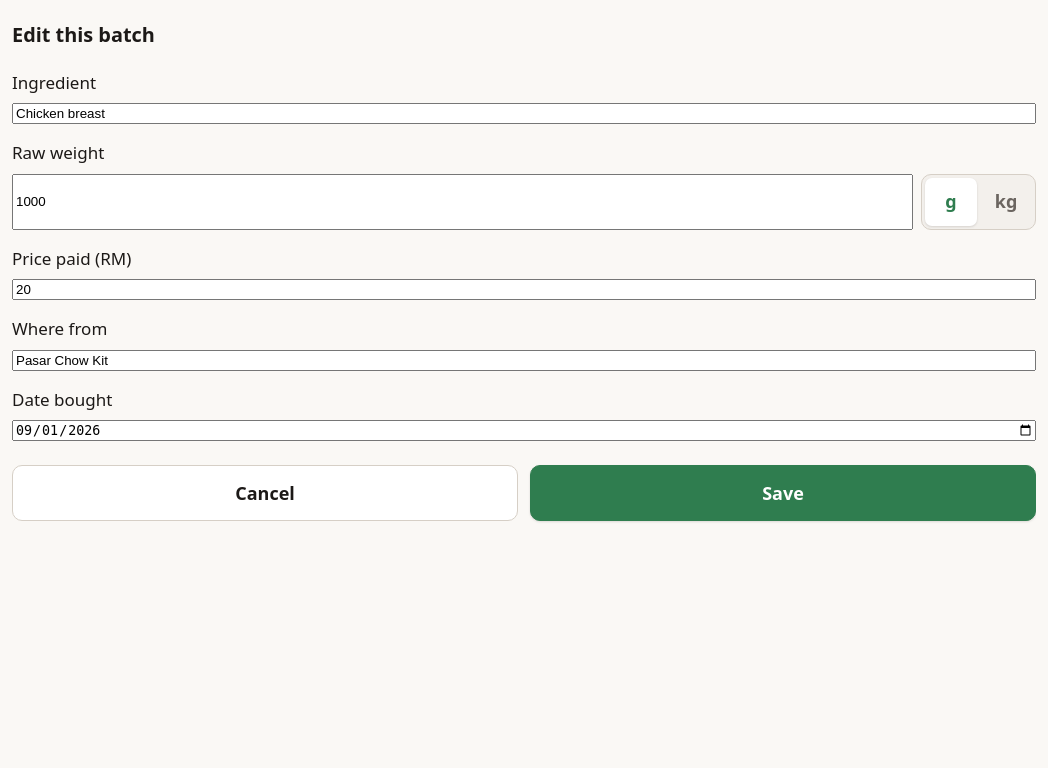
it: AddBatchForm editing › blocks shrinking the weight below what has already been cooked
The width and height of the screenshot is (1048, 768).
Replace the text in the number field labelled "Raw weight" with "300" at x=462, y=202, box [12, 174, 913, 230]
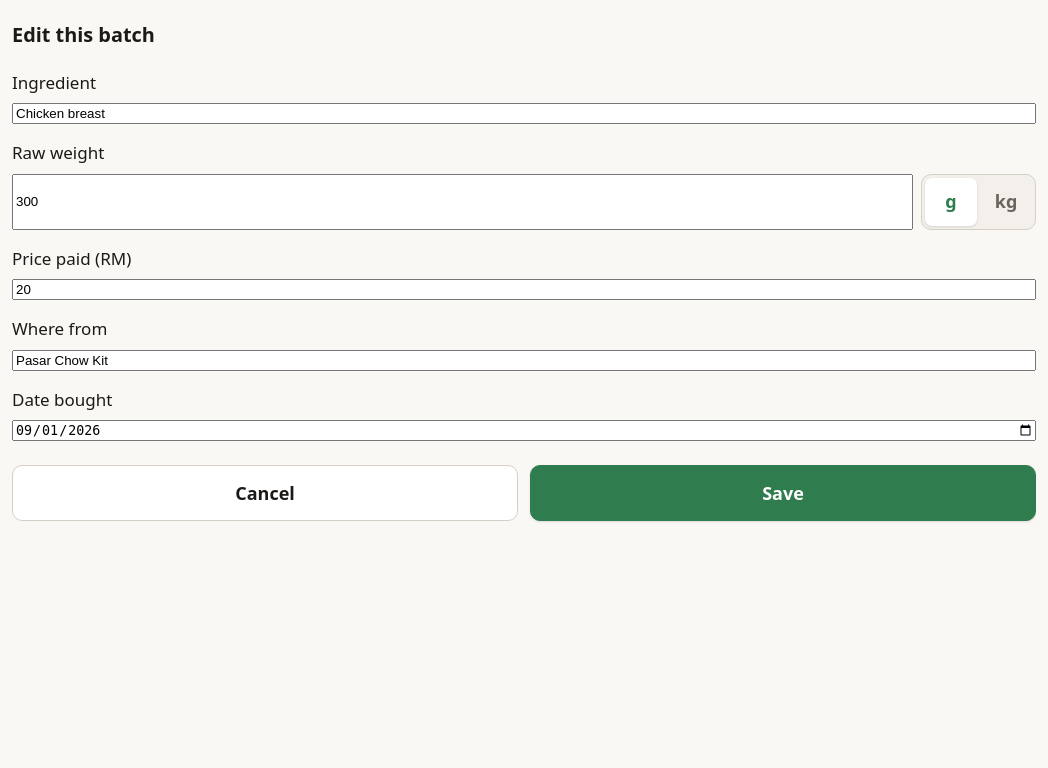
Click the button "Save" at x=783, y=493, box [530, 465, 1036, 521]
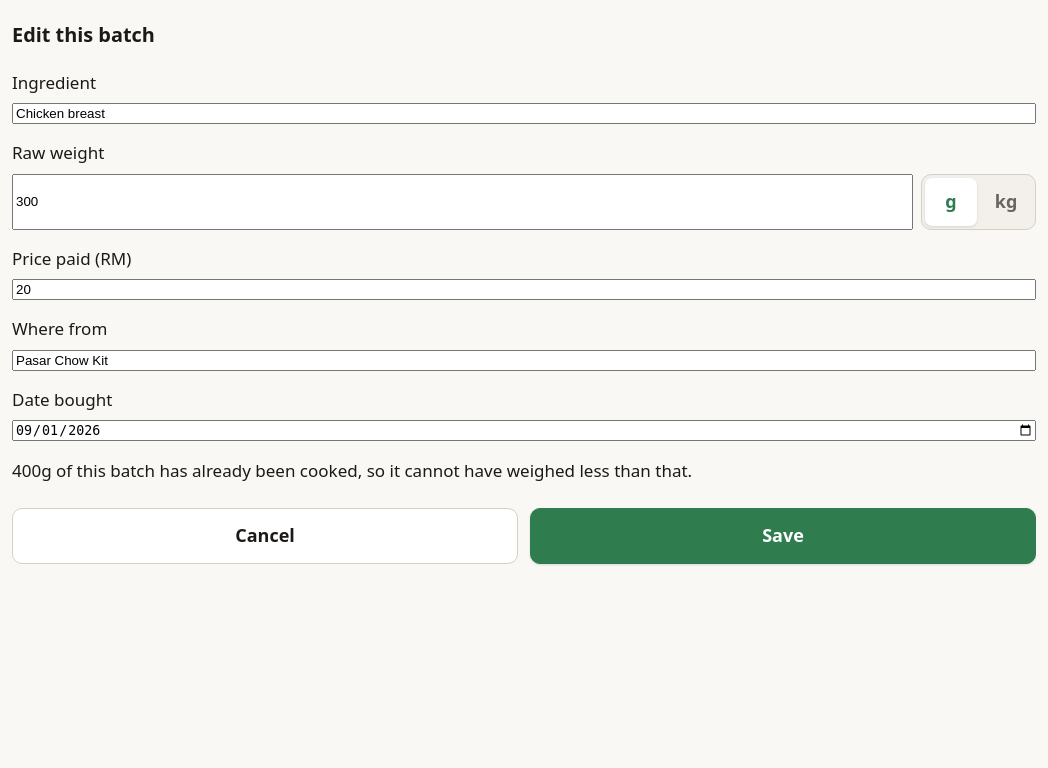
Result: the message shows "400g" at [12, 459, 692, 482]
